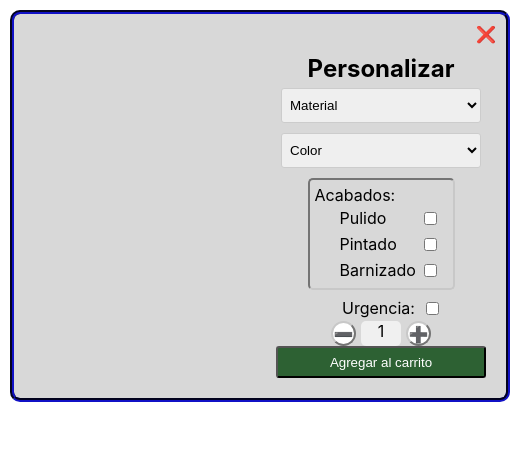
Test: FormSolicitarProducto test › should fail on submit all fields missing
Step 1. Click the submit button → (381, 362), box left=276, top=346, right=486, bottom=378
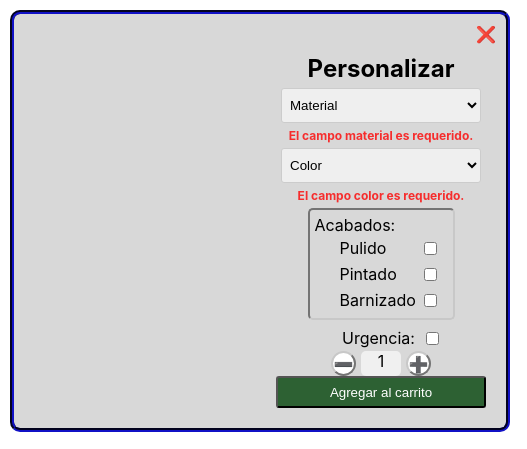
Check: the text "El campo material es requerido." is shown, box left=289, top=128, right=473, bottom=143
Check: the text "El campo color es requerido." is shown, box left=298, top=188, right=464, bottom=203
